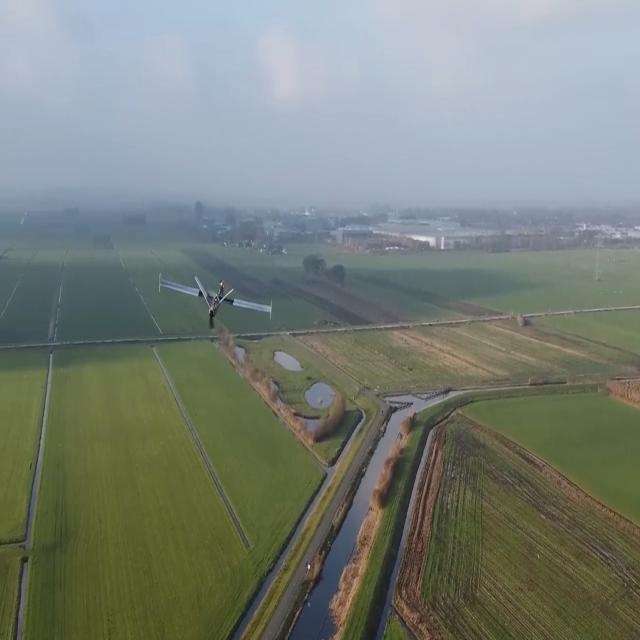iha: (191, 272, 239, 329)
